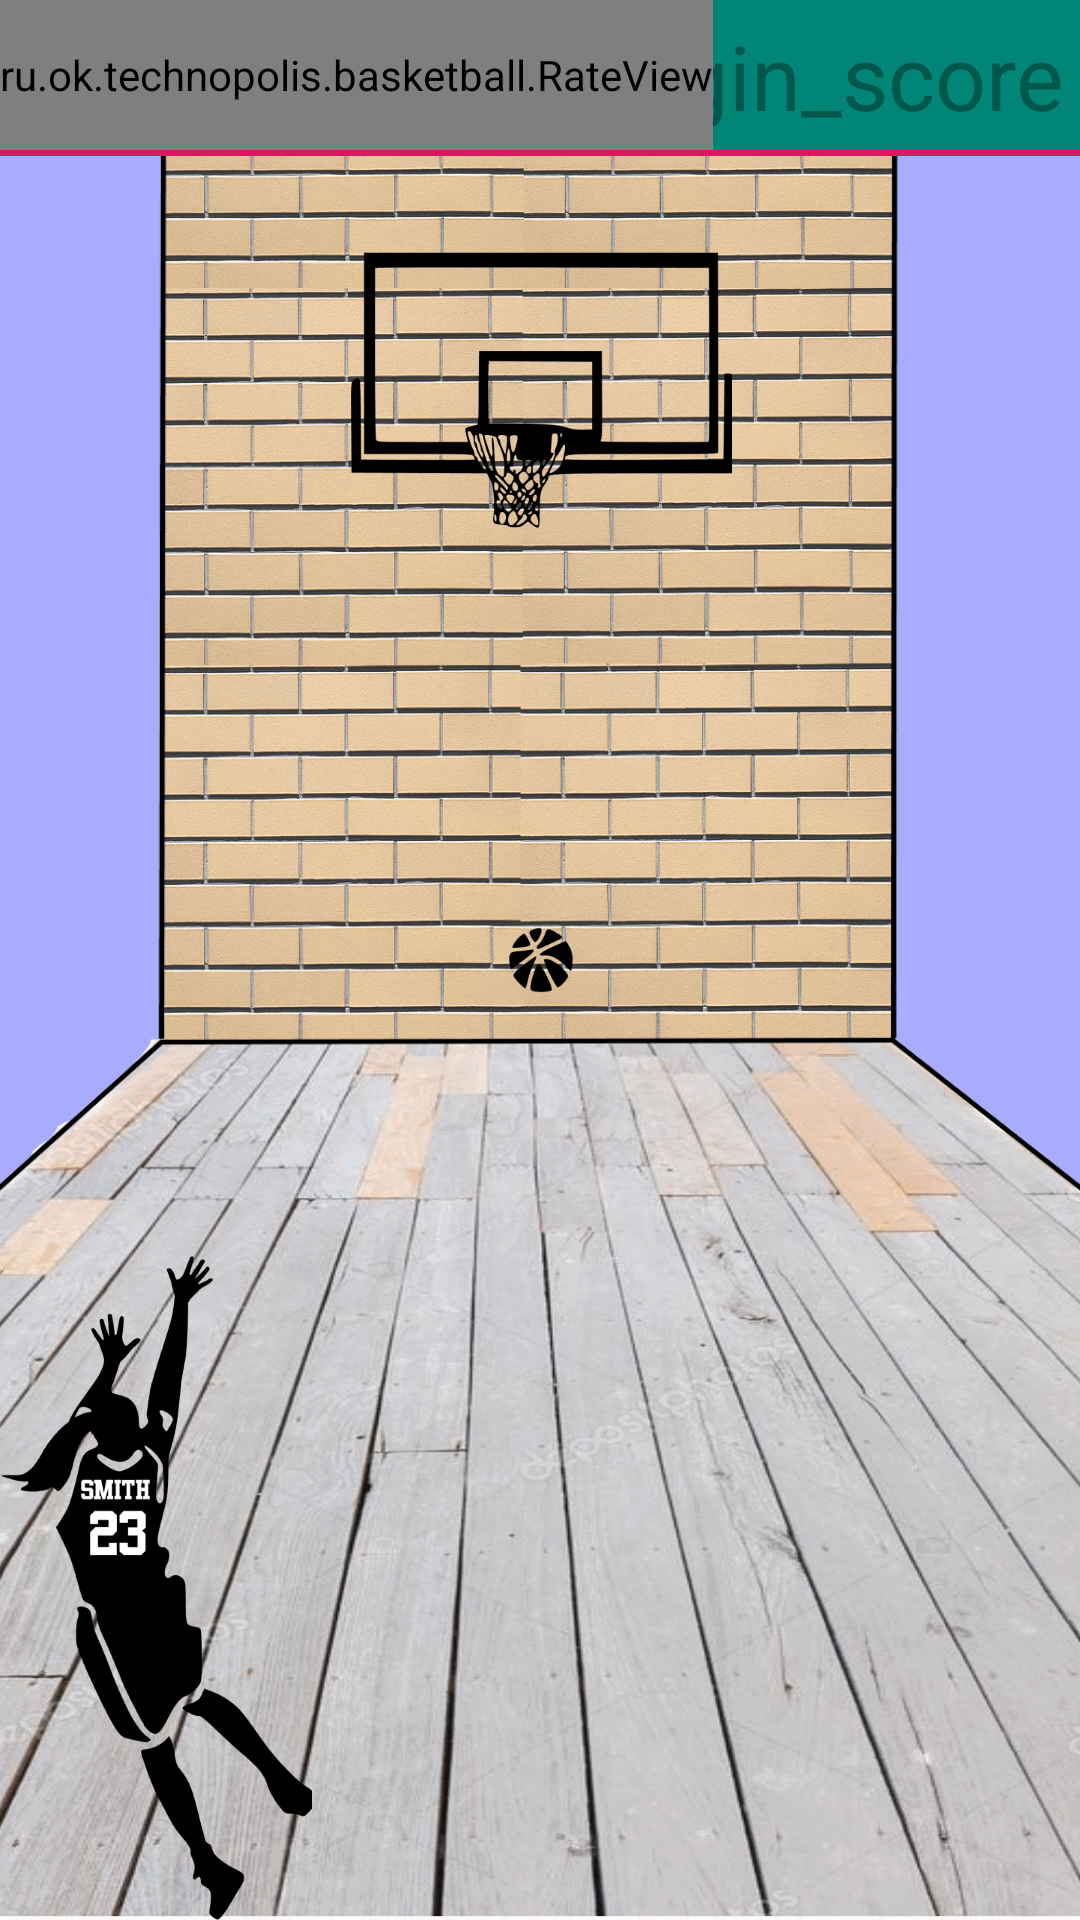

Where to tap for icons on this 1080 × 1920 app screen, as (x=x, y=y):
ball: (x=540, y=959)
